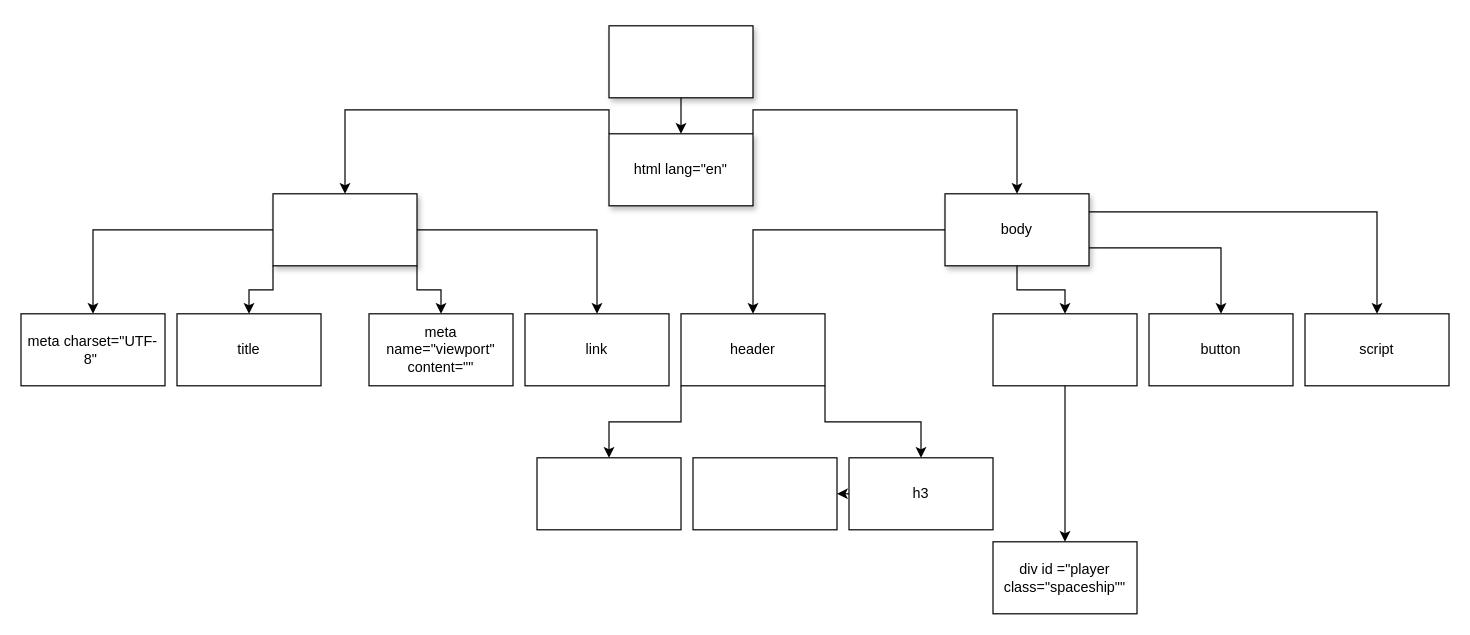
The diagram is 1470 pixels wide and 635 high, and some of its shapes have lost their labels. The shapes that lost their labels are listed below. From the top down, each one's centre as x and y in pixels, then its label:
[681,63]: doctype html
[345,231]: head
[1064,349]: div id="game-area"
[608,493]: h1
[764,493]: span
